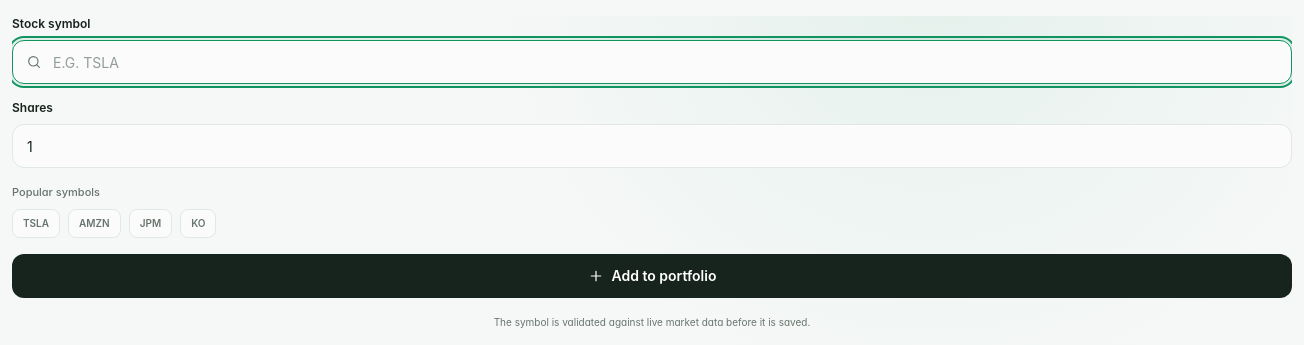
Test: AddPositionForm › normalizes valid values and resets after a successful add
Type " nvda " into the field labelled "Stock symbol" at point(652, 62), box [12, 40, 1292, 84]
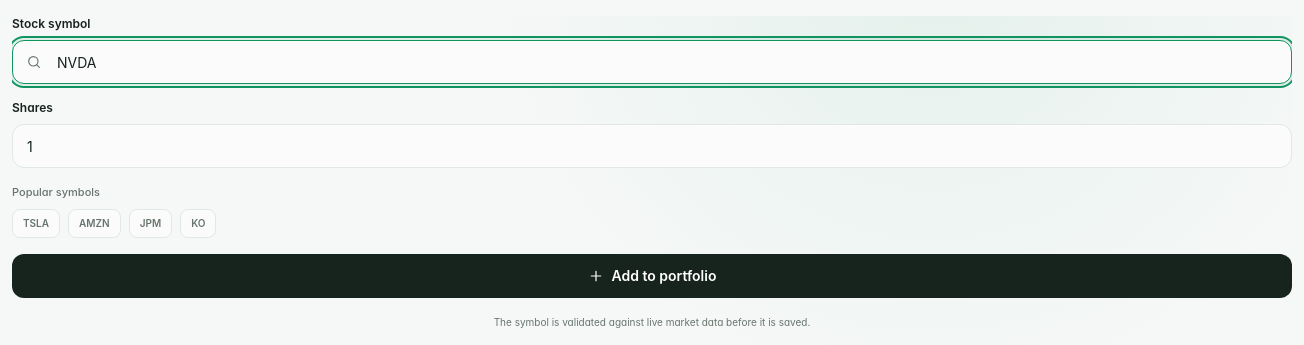
Replace the text in the number field labelled "Shares" with "2.5" at point(652, 146), box [12, 124, 1292, 168]
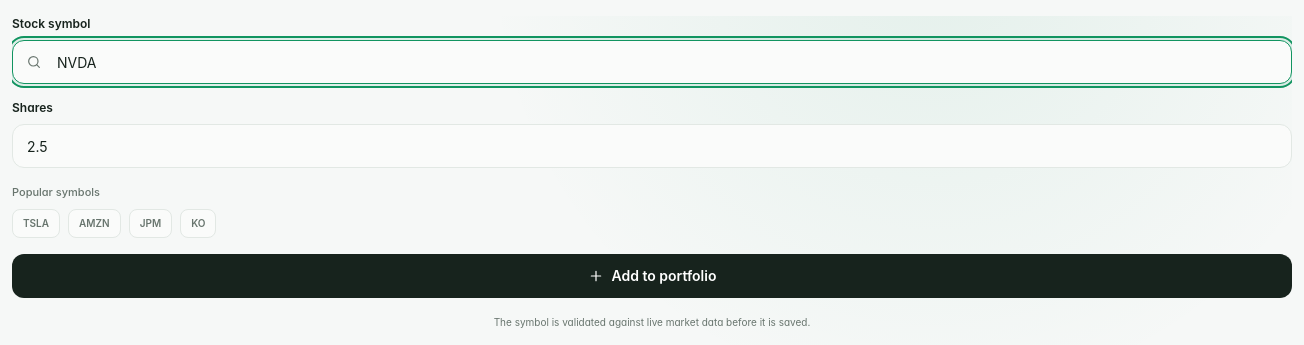
Click the button "Add to portfolio" at point(652, 276), box [12, 254, 1292, 298]
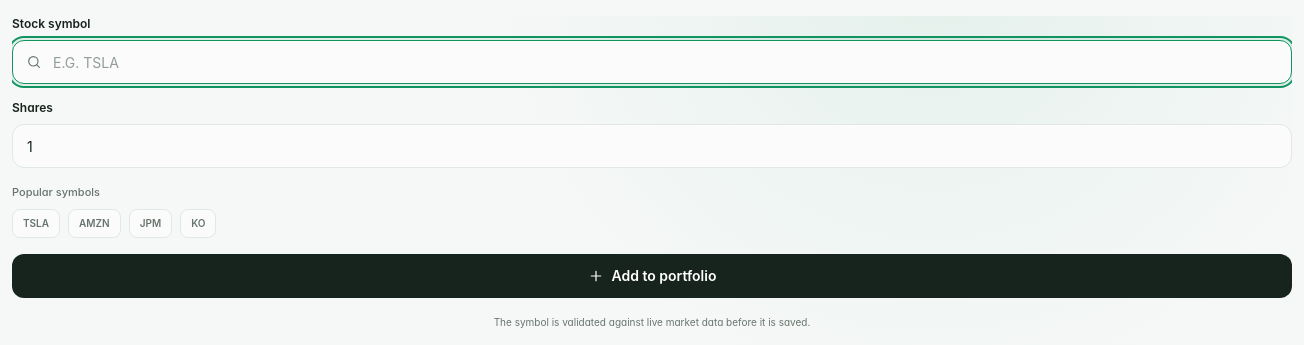
Expected: the field labelled "Stock symbol" is empty, [12, 40, 1292, 84]
Expected: the number field labelled "Shares" holds "1", [12, 124, 1292, 168]
